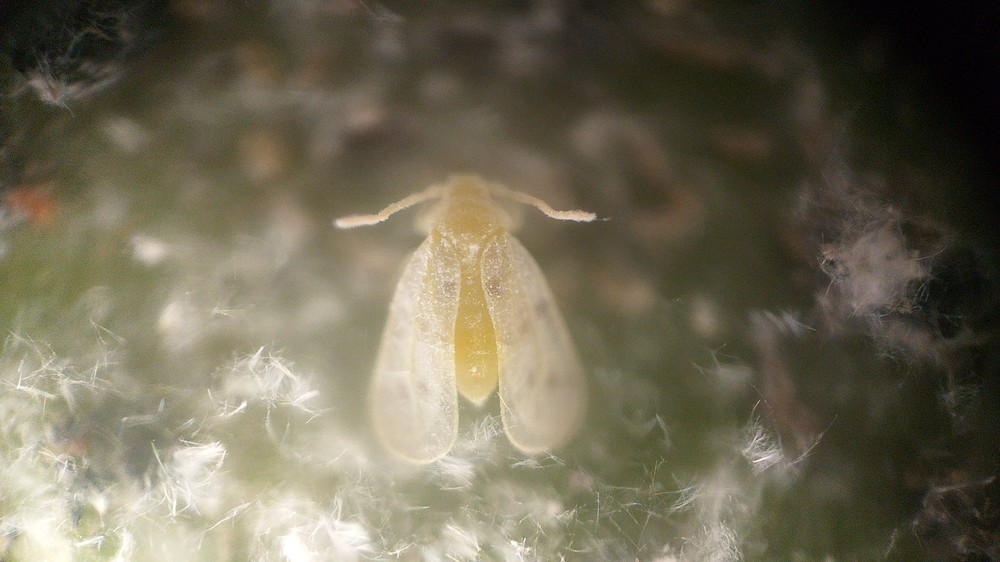Mosca Blanca: (325, 169, 622, 479)
